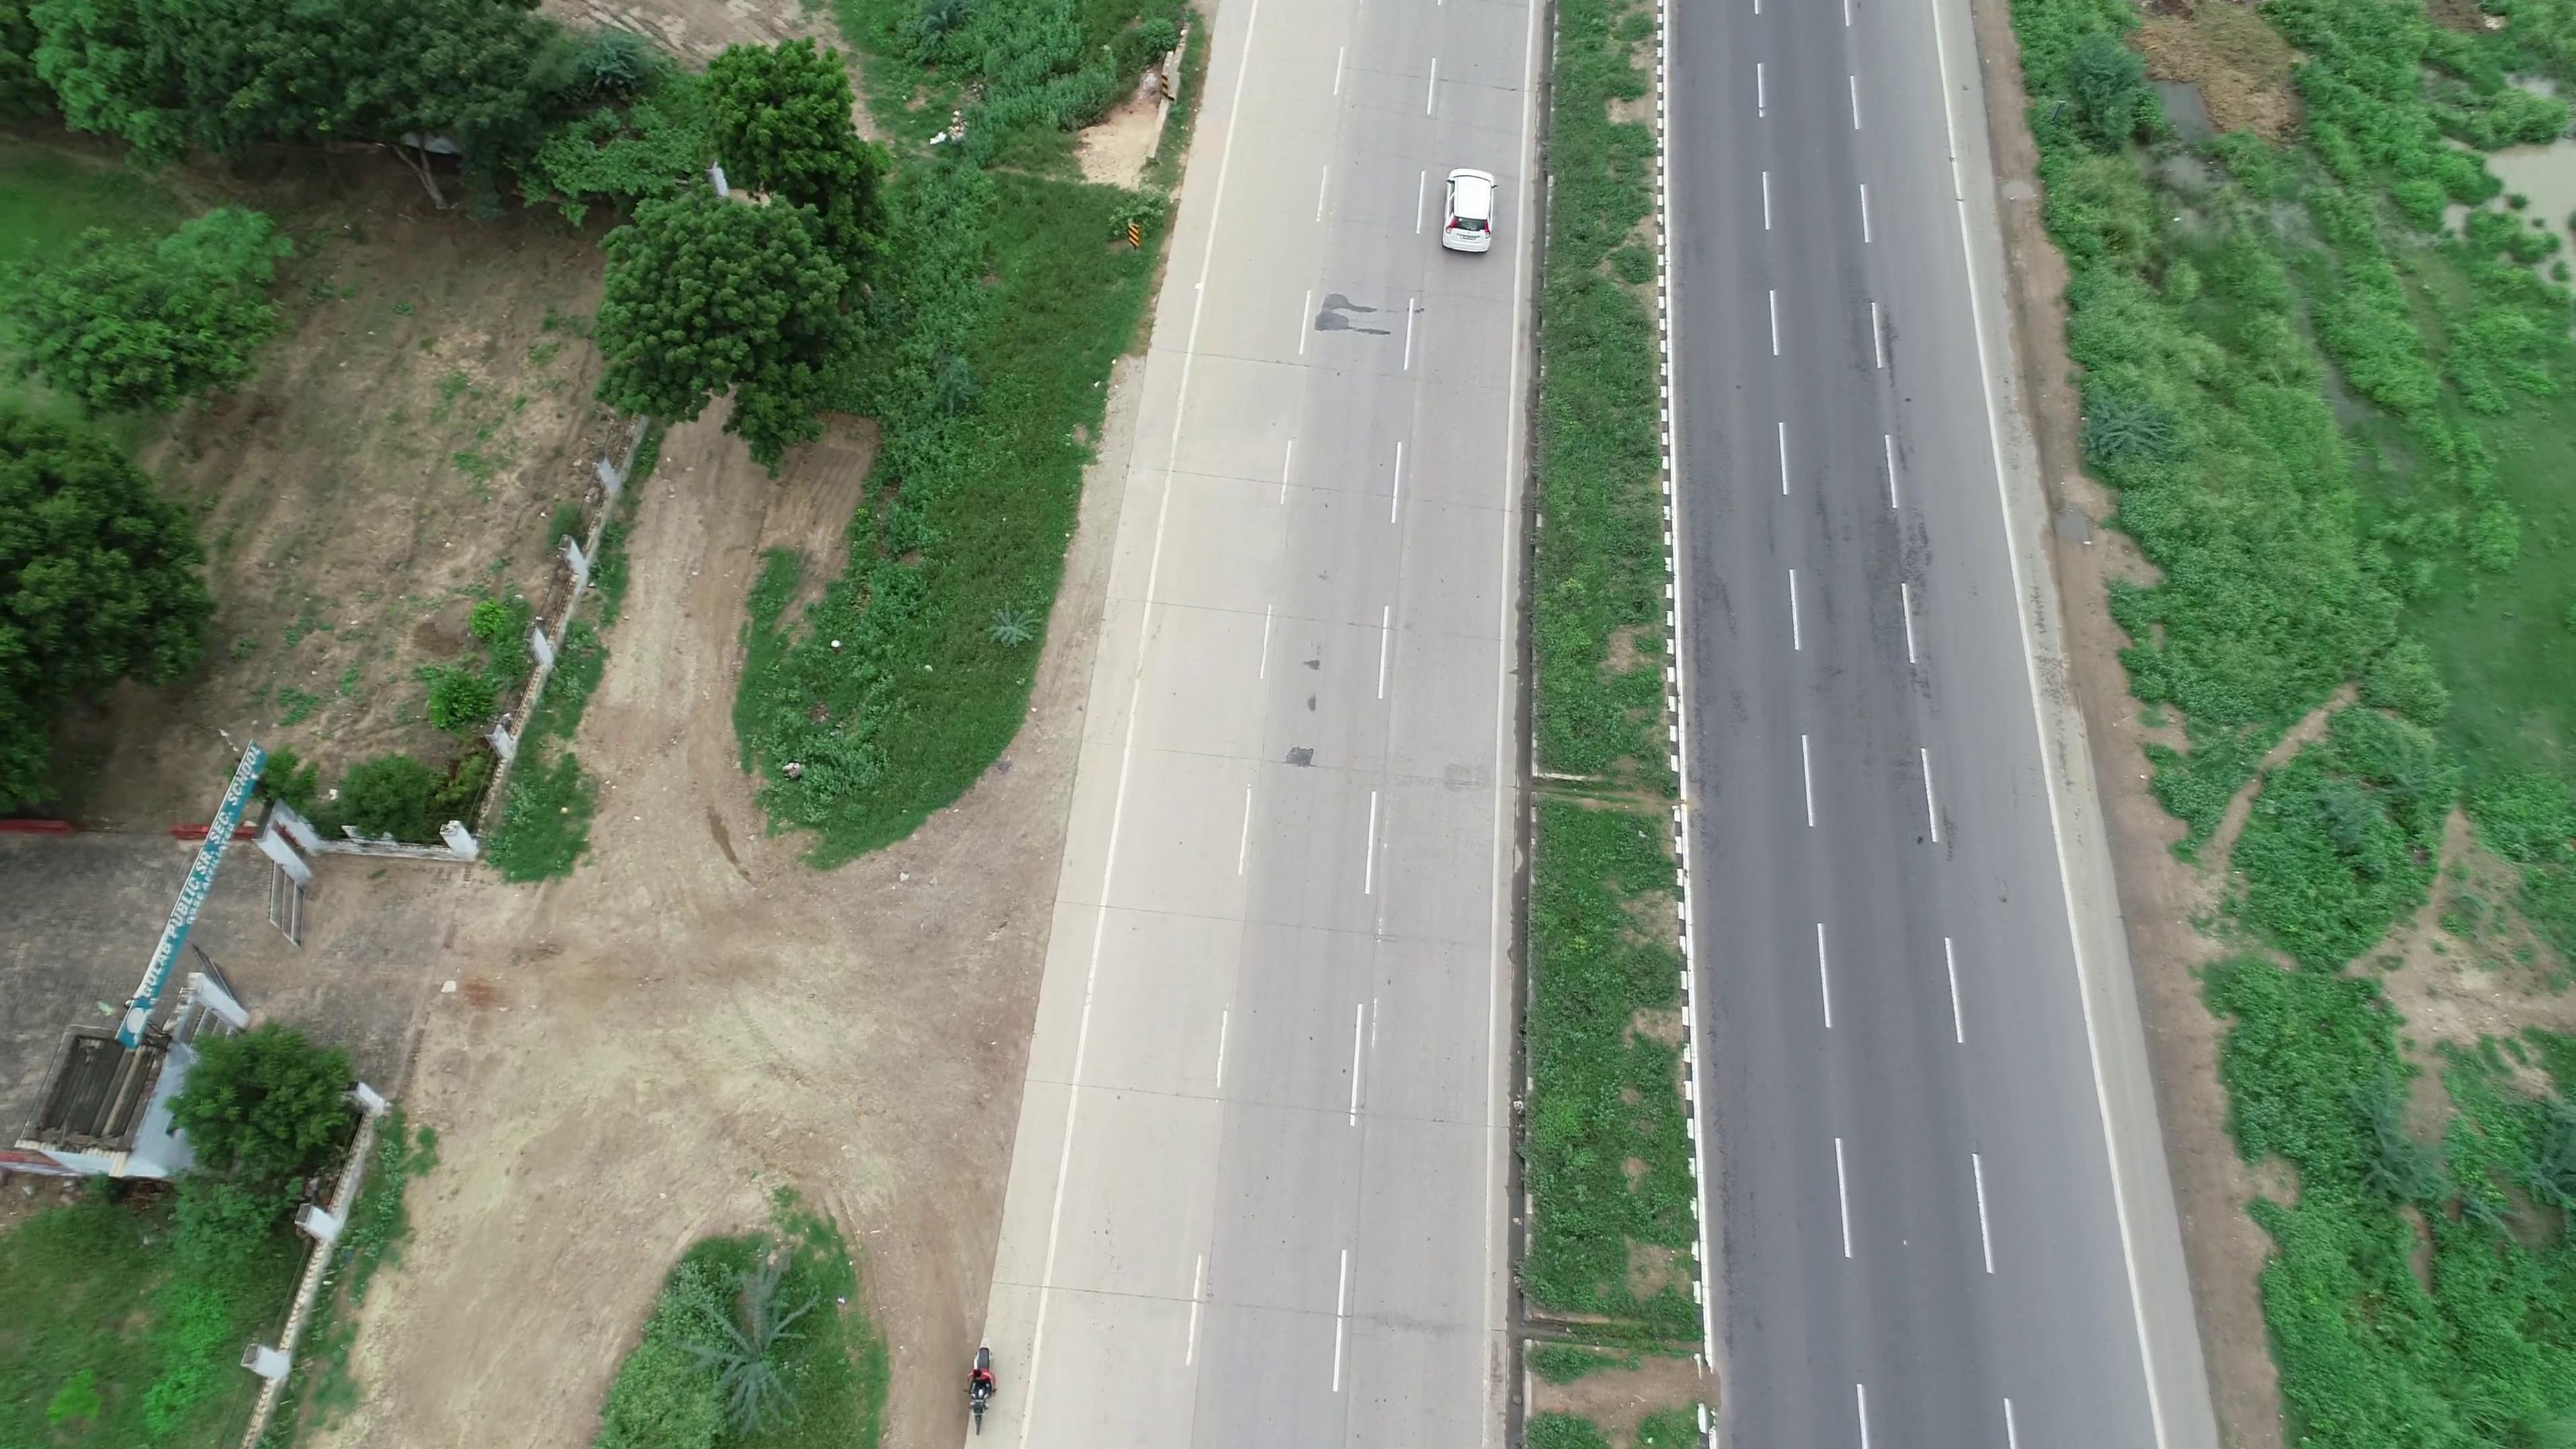Ravelling: (1863, 439, 1943, 711)
